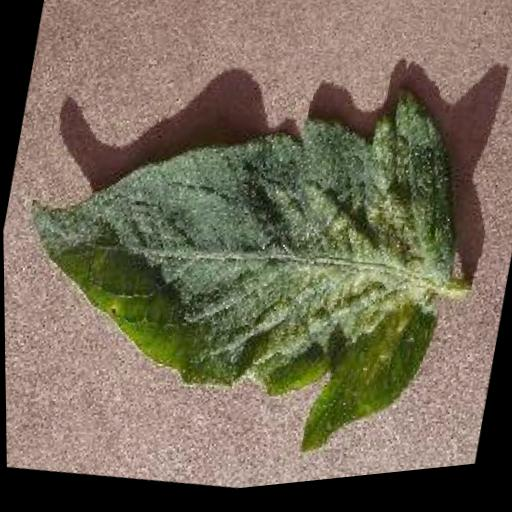Spider Mites: (1, 28, 490, 507)
